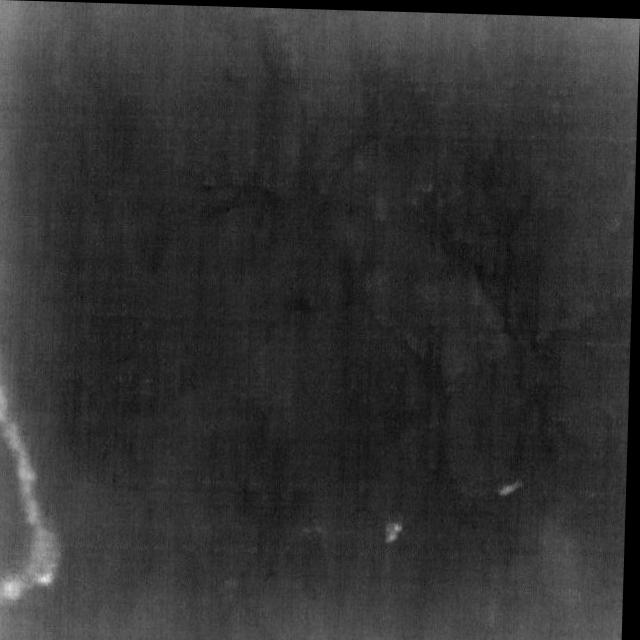deer: (388, 520, 406, 542), (502, 478, 524, 494)
